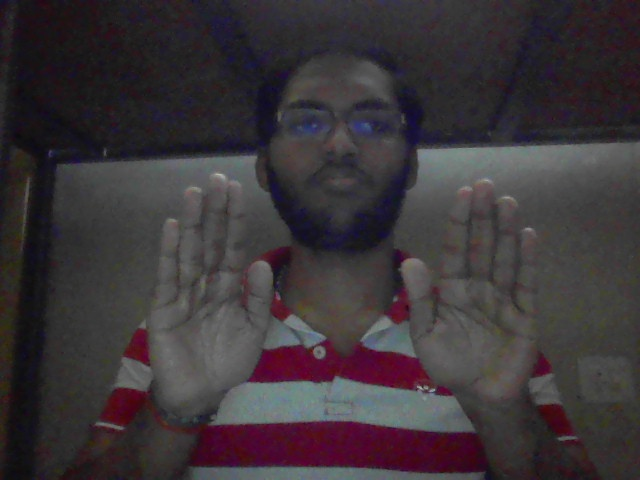God_Bless_You: (151, 178, 554, 427)
